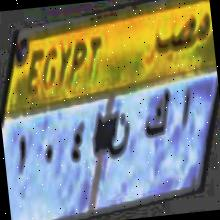0: (41, 138, 57, 170)
1: (12, 130, 32, 178)
4: (66, 116, 89, 167)
alif: (177, 84, 196, 131)
kaaf: (138, 81, 176, 140)
noon: (105, 112, 134, 170)
